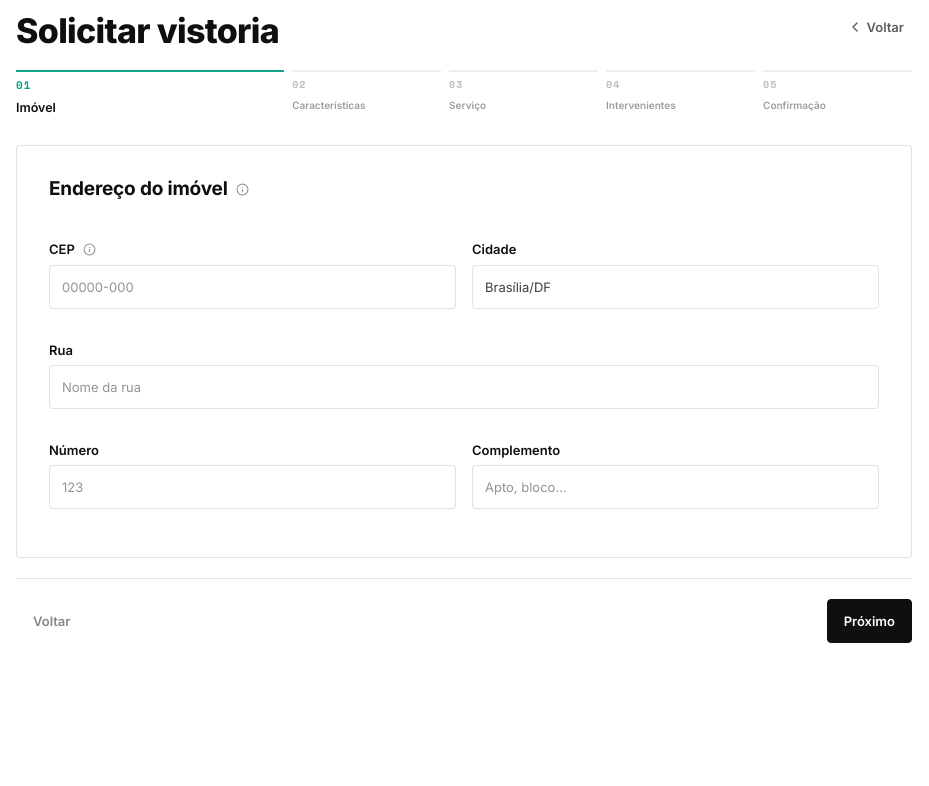
Scenario: ClienteSolicitar (Página 4 — wizard de solicitação do Cliente B2C) › Passo 2 (características) — "Dados do imóvel" (select multiseleção) › selecionar "Tem quarto" no multiselect revela o campo Quantos quartos
In the field labelled "Rua": (464, 387) [49,365,879,409], type "Rua das Flores"
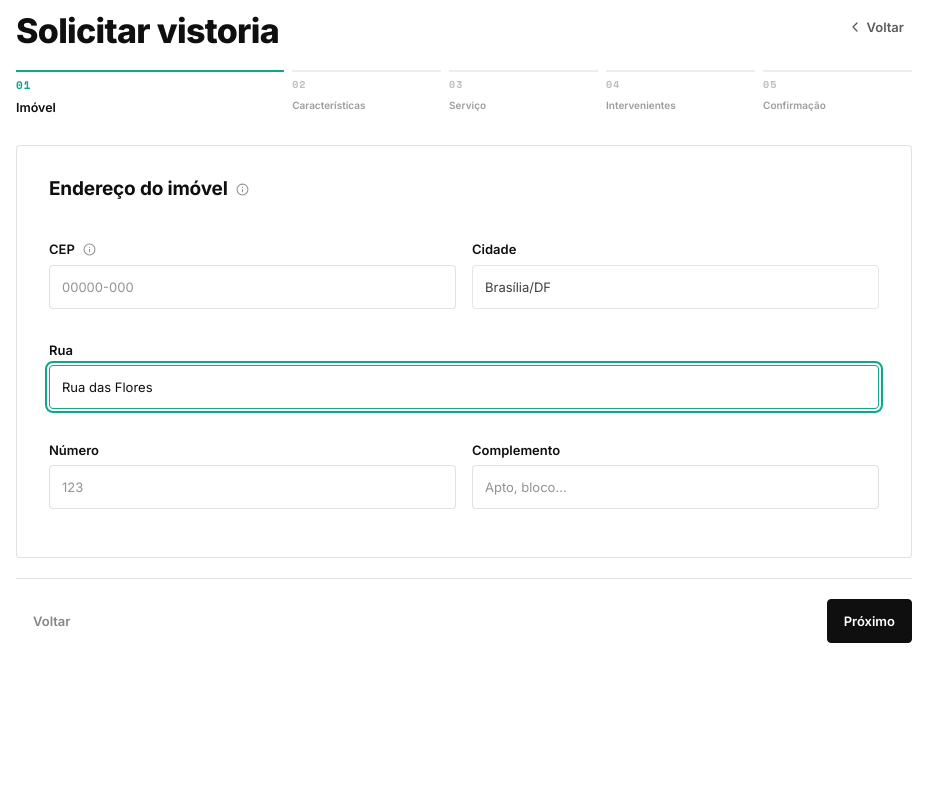
Click the button "Próximo": (869, 621) [827,599,912,643]
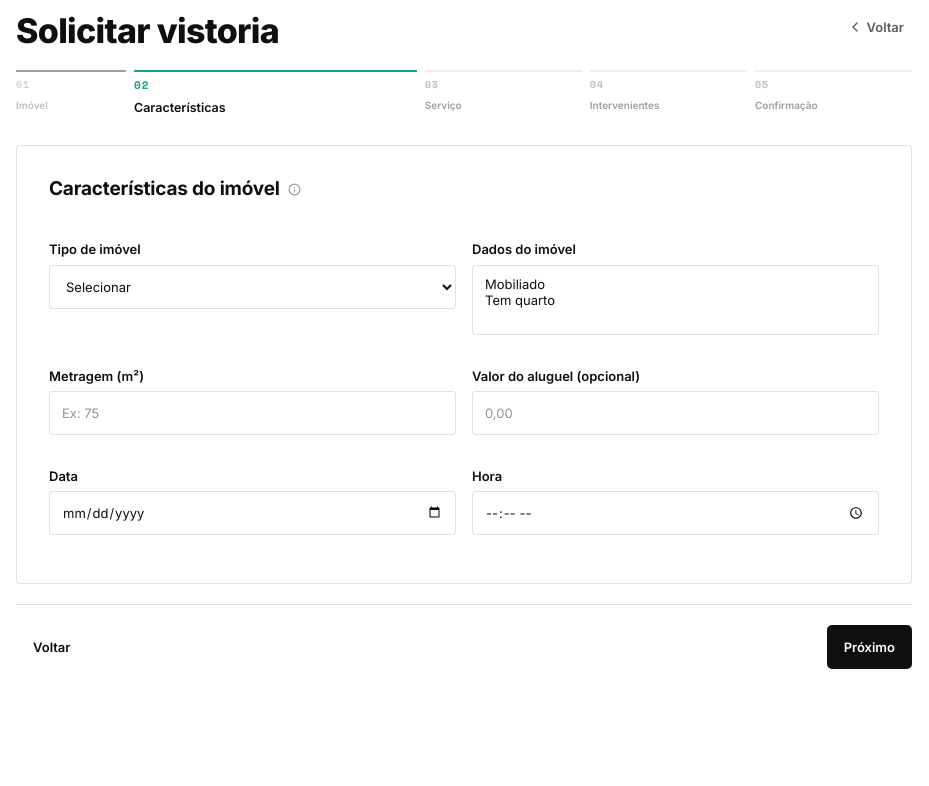
Result: the heading "Características do imóvel" is shown at [49,178,280,200]
Select "Apartamento" in the dropdown labelled "Tipo de imóvel": (252, 287) [49,265,456,309]
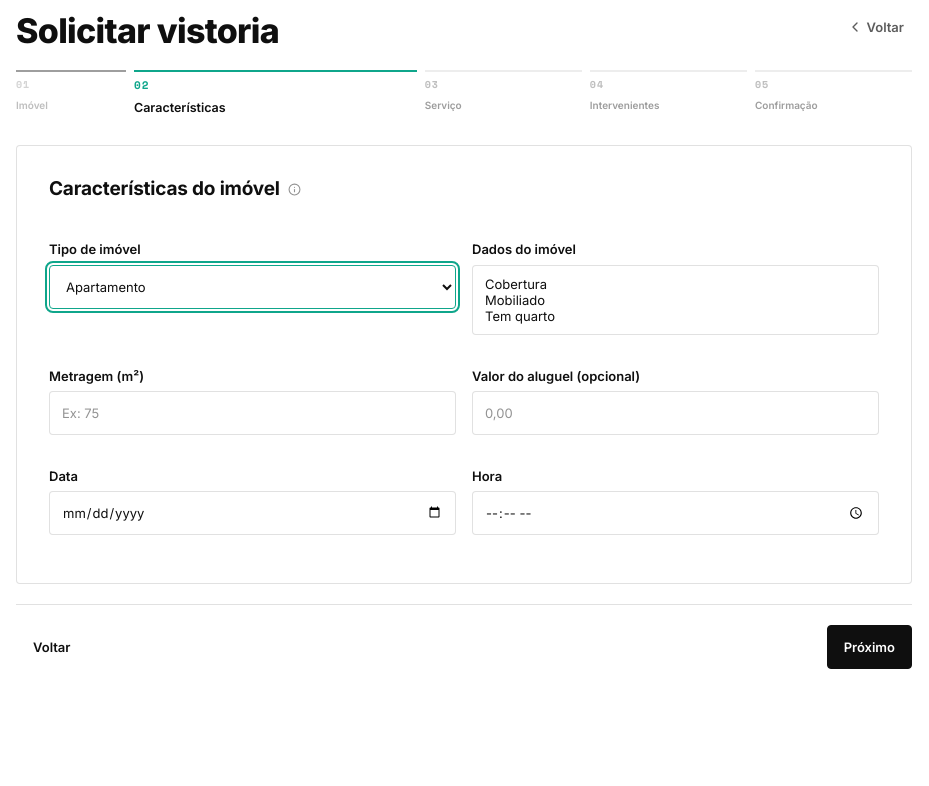
Expected: the field labelled "Quantos quartos?" is not shown
Select "Tem quarto" in the dropdown labelled "Dados do imóvel": (676, 300) [472,265,879,335]
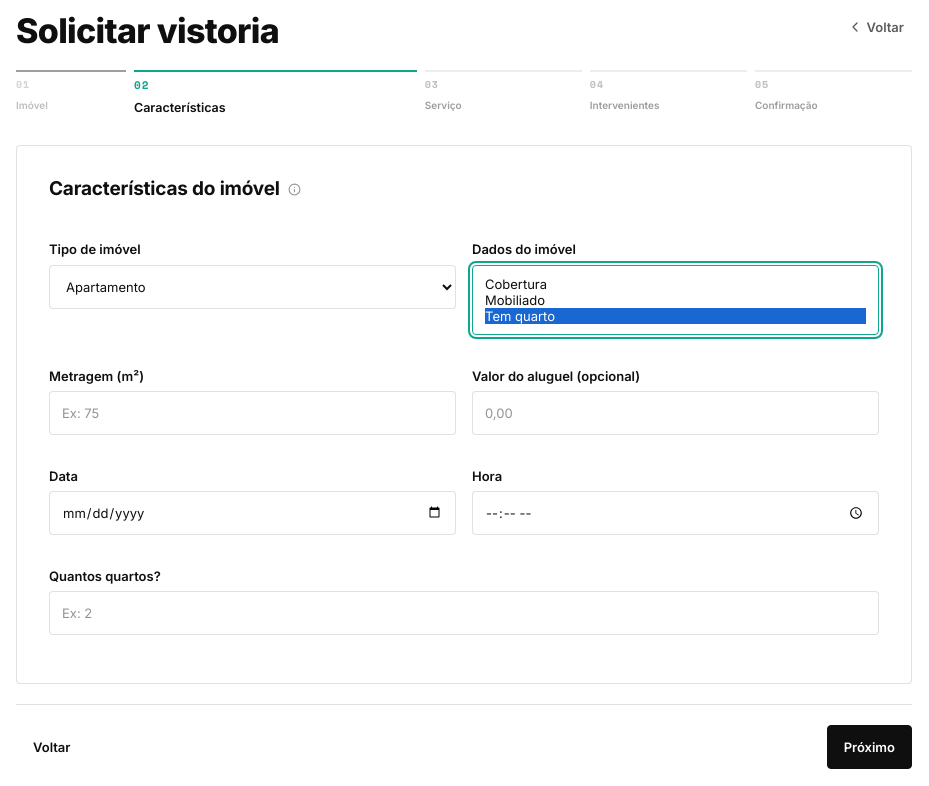
Result: the number field labelled "Quantos quartos?" is shown at [49,591,879,635]
